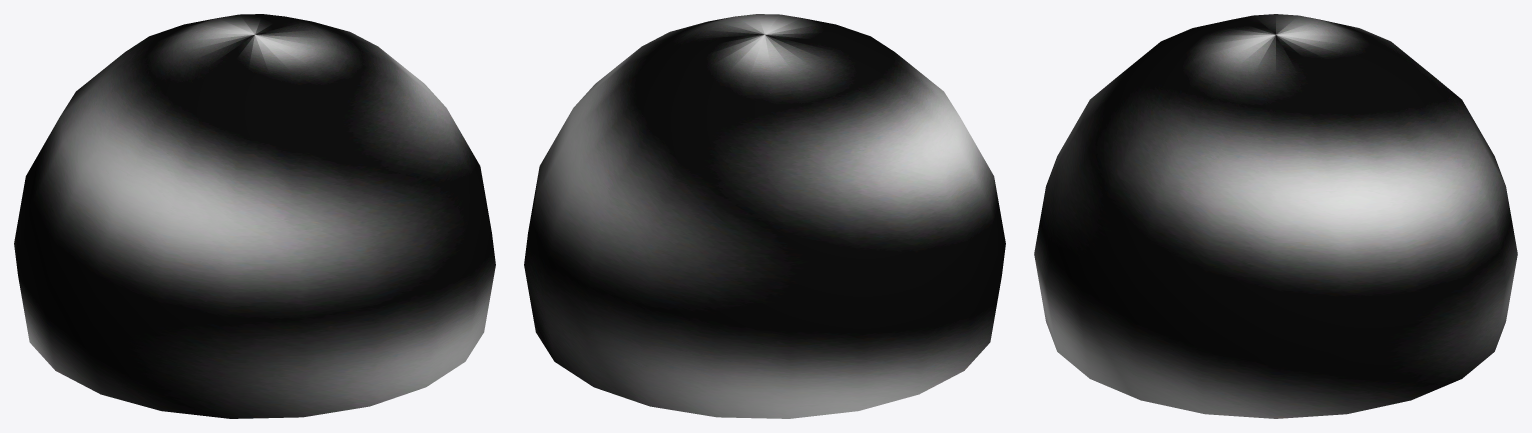
Rendered from vfx_kurp_1064.dae.
3 renders of one model, left to right at view 1: azimuth 30°, elevation 25°; view 2: azimuth 150°, elevation 25°; view 3: azimuth 270°, elevation 25°, orthographic.
Parts seen in each view (by area): view 1: vfx_kurp_1064; view 2: vfx_kurp_1064; view 3: vfx_kurp_1064.
Boxes of the visible parts, x1=… form: vfx_kurp_1064: x1=14, y1=14, x2=495, y2=418; vfx_kurp_1064: x1=524, y1=14, x2=1005, y2=418; vfx_kurp_1064: x1=1034, y1=14, x2=1517, y2=418.
Size of the model in its own units: 7.43 by 7.43 by 4.86.
1 material, 1 textured.
